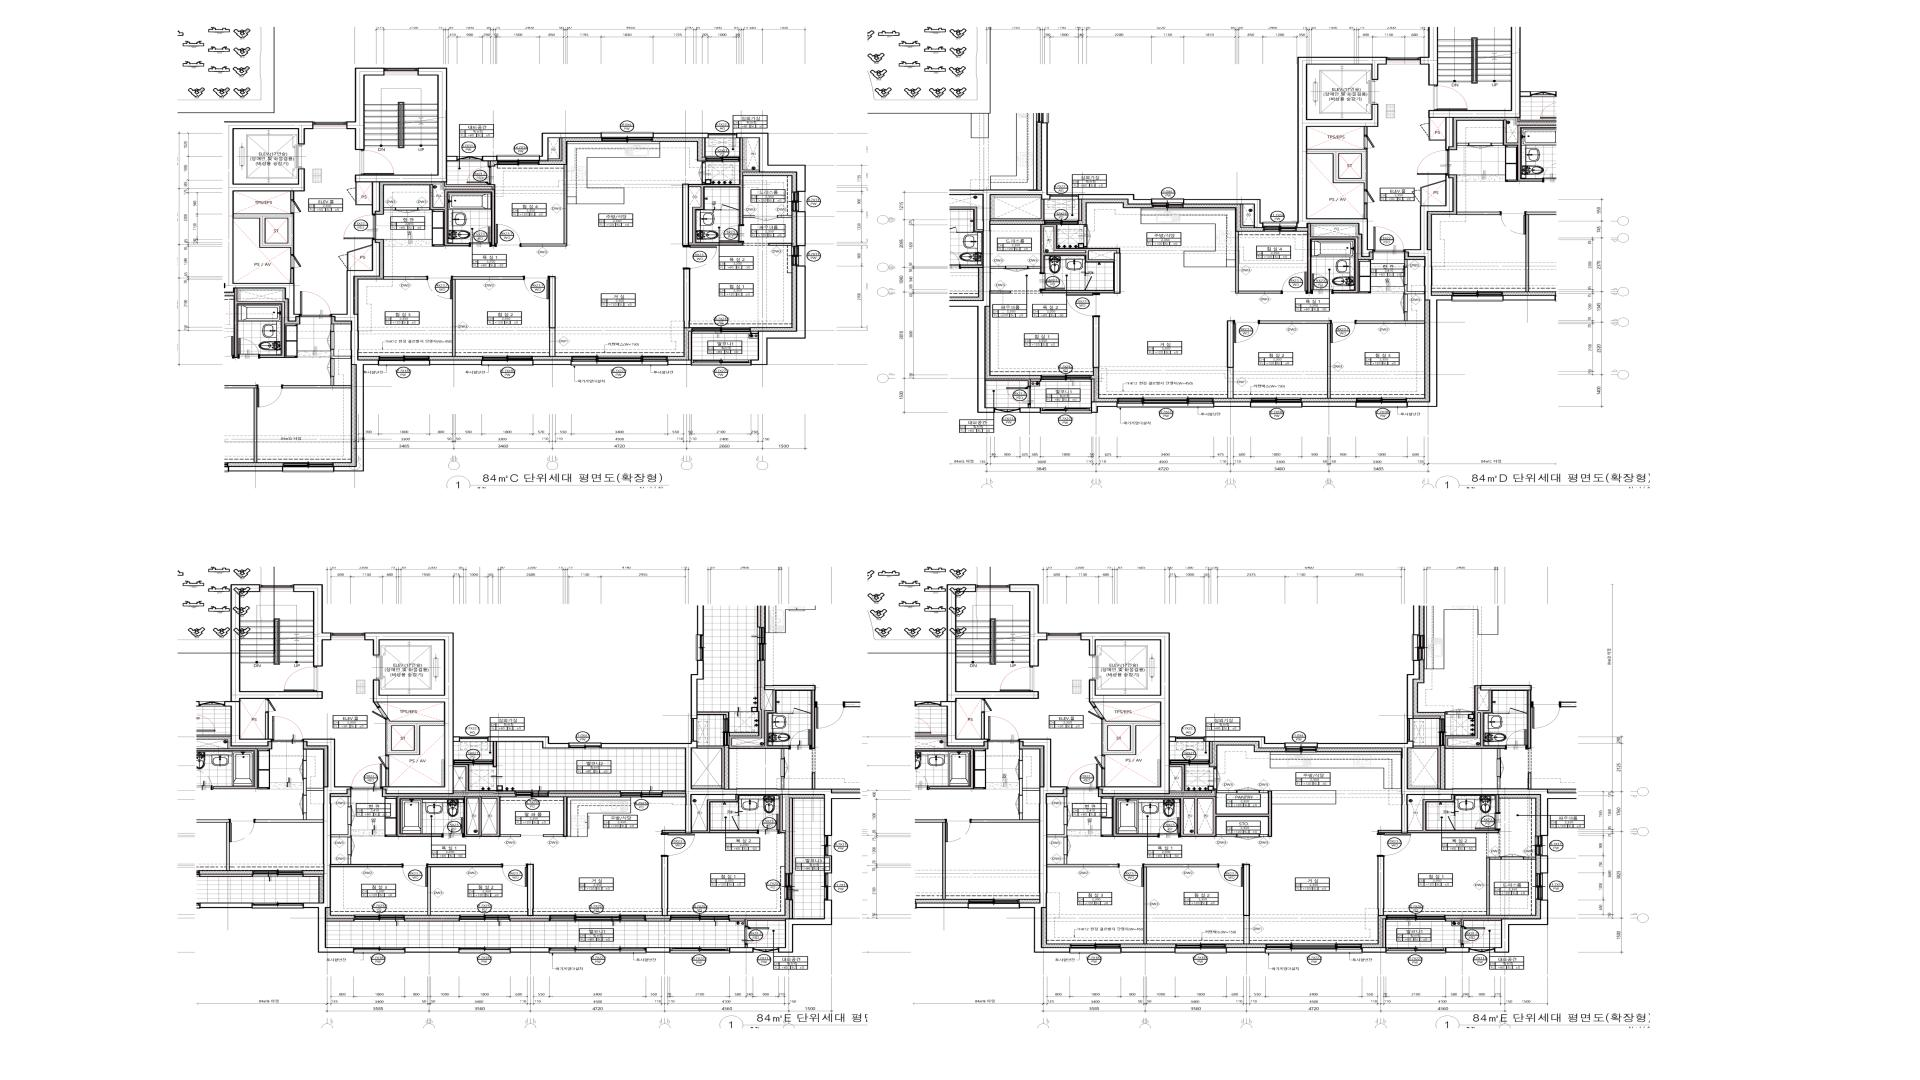door: (359, 149, 394, 175), (999, 667, 1034, 691), (283, 667, 318, 691), (1377, 833, 1411, 857), (661, 833, 695, 857), (1434, 86, 1468, 110), (351, 764, 382, 790), (1373, 227, 1404, 253), (683, 246, 717, 269), (1068, 764, 1098, 790), (344, 215, 376, 239), (1067, 294, 1100, 317), (1233, 320, 1260, 343), (402, 863, 427, 887), (495, 224, 521, 247), (1331, 320, 1357, 343), (1218, 864, 1243, 887), (1119, 864, 1144, 887), (502, 864, 527, 887), (524, 276, 549, 299), (427, 276, 452, 299), (1281, 272, 1307, 294), (1039, 273, 1066, 291), (719, 224, 744, 243), (1461, 926, 1486, 945), (744, 926, 769, 945), (442, 817, 464, 838), (469, 226, 491, 247), (1311, 273, 1333, 294), (1158, 817, 1181, 837), (1006, 387, 1031, 405), (1475, 813, 1501, 830), (466, 167, 491, 184), (758, 814, 779, 834), (1086, 707, 1105, 721), (369, 707, 388, 721), (1213, 767, 1221, 790), (698, 161, 706, 184), (1093, 755, 1105, 769), (1084, 225, 1091, 248), (1364, 135, 1375, 149), (1364, 190, 1375, 204), (981, 699, 992, 712), (378, 755, 389, 768), (290, 200, 301, 213), (265, 699, 275, 713), (1237, 834, 1260, 840), (1237, 787, 1260, 793), (395, 207, 418, 213), (755, 215, 777, 221), (1502, 854, 1524, 860), (1006, 266, 1028, 272), (1448, 815, 1456, 830), (720, 204, 739, 210), (732, 814, 739, 830), (1085, 275, 1092, 290)
wall: (600, 741, 832, 836), (1316, 743, 1548, 836), (224, 122, 313, 322), (1298, 57, 1387, 257), (977, 190, 1051, 413), (1080, 632, 1176, 794), (365, 632, 460, 794), (946, 584, 1039, 747), (230, 584, 323, 747), (354, 68, 457, 215), (1428, 3, 1521, 150), (1404, 175, 1454, 407), (1019, 739, 1070, 953), (303, 739, 354, 953), (689, 138, 759, 246), (1113, 791, 1272, 837), (331, 239, 380, 365), (1144, 864, 1217, 945), (452, 277, 523, 356), (1260, 321, 1331, 398), (751, 266, 806, 365), (397, 796, 500, 837), (736, 133, 806, 192), (430, 185, 495, 246), (521, 165, 567, 247), (1040, 225, 1120, 272), (428, 864, 501, 915), (1307, 224, 1358, 294), (1408, 795, 1498, 833), (293, 584, 331, 667), (1420, 3, 1458, 86), (346, 68, 384, 150), (1009, 584, 1047, 666), (1494, 900, 1548, 953), (778, 900, 832, 953), (1235, 232, 1281, 294), (234, 213, 294, 255), (692, 795, 758, 833), (1308, 149, 1368, 190), (1183, 199, 1264, 228), (1101, 719, 1160, 755), (385, 719, 444, 755), (454, 765, 515, 794), (539, 133, 602, 161), (1170, 764, 1212, 794), (991, 200, 1045, 221), (1042, 227, 1085, 253), (487, 736, 569, 749), (1486, 857, 1502, 915), (1047, 855, 1118, 868), (1204, 737, 1285, 748), (331, 855, 402, 867), (1356, 312, 1425, 324), (1078, 194, 1153, 205), (1242, 864, 1250, 944), (1421, 180, 1446, 205), (265, 219, 288, 243), (1227, 321, 1234, 398), (1339, 154, 1361, 178), (1198, 799, 1213, 834), (549, 277, 555, 357), (661, 857, 668, 916), (1092, 317, 1100, 368), (444, 182, 494, 190), (1429, 118, 1445, 141), (527, 864, 534, 916), (684, 269, 690, 328), (1378, 857, 1384, 916), (796, 212, 806, 246), (404, 947, 459, 953), (1240, 205, 1254, 228), (986, 379, 1031, 386), (789, 798, 793, 873), (549, 138, 562, 161), (1040, 290, 1114, 294), (1114, 253, 1121, 294), (1091, 402, 1117, 413), (653, 133, 709, 138), (1461, 919, 1501, 926), (745, 919, 785, 926), (1301, 402, 1357, 407), (1120, 948, 1175, 953), (429, 360, 482, 365), (509, 947, 550, 953), (1226, 947, 1266, 953), (331, 825, 351, 837), (1047, 825, 1067, 837), (548, 790, 621, 793), (532, 360, 572, 365), (563, 797, 568, 837), (780, 795, 785, 833), (1213, 402, 1251, 407), (1404, 285, 1424, 294), (384, 276, 427, 280), (404, 919, 460, 922), (645, 947, 671, 953), (1445, 947, 1470, 953), (1362, 947, 1387, 953), (729, 947, 754, 953), (1540, 856, 1548, 873), (824, 856, 832, 873), (1019, 407, 1041, 413), (509, 919, 550, 922), (668, 360, 692, 365), (689, 331, 693, 360), (981, 712, 985, 739), (265, 712, 269, 739), (493, 742, 497, 767), (1209, 742, 1213, 764), (1078, 199, 1082, 221), (1091, 379, 1095, 401), (1383, 919, 1386, 948), (326, 919, 354, 922), (645, 919, 671, 922), (702, 138, 706, 157), (789, 900, 793, 919), (482, 156, 497, 161), (768, 243, 792, 246), (1378, 830, 1402, 833), (385, 768, 389, 786), (662, 830, 685, 833), (662, 791, 685, 794), (1101, 769, 1105, 786), (500, 834, 521, 837), (1216, 790, 1237, 793), (290, 268, 294, 283), (1217, 834, 1237, 837), (543, 834, 563, 837), (1364, 204, 1368, 219), (991, 291, 1011, 294), (1496, 795, 1499, 812), (374, 702, 381, 709), (1445, 919, 1461, 922), (729, 919, 745, 922), (777, 215, 792, 218), (991, 266, 1006, 269), (290, 191, 294, 200), (743, 215, 755, 218), (1524, 857, 1536, 860), (1404, 259, 1408, 268), (1028, 266, 1040, 269), (418, 207, 429, 210), (1364, 127, 1368, 135), (348, 797, 351, 807), (1064, 797, 1067, 807), (1031, 379, 1041, 382), (1090, 703, 1097, 707), (383, 208, 395, 210), (385, 835, 397, 837), (385, 797, 397, 799), (1260, 790, 1268, 793), (1260, 834, 1268, 837), (1101, 835, 1112, 837), (751, 331, 758, 334), (488, 161, 491, 167), (1101, 797, 1113, 798), (1461, 945, 1464, 947), (745, 945, 748, 947), (1028, 405, 1031, 407)
window: (572, 356, 668, 366), (1117, 398, 1213, 408), (1266, 944, 1362, 953), (550, 948, 646, 954), (550, 915, 645, 921), (601, 132, 653, 142), (1070, 944, 1121, 954), (378, 356, 429, 366), (482, 356, 533, 366), (1251, 398, 1302, 408), (1357, 398, 1407, 408), (1175, 944, 1226, 953), (691, 359, 751, 366), (497, 155, 539, 165), (1387, 947, 1445, 954), (1386, 915, 1445, 921), (670, 915, 729, 921), (354, 947, 404, 954), (1041, 375, 1091, 382), (671, 947, 729, 953), (692, 328, 750, 334), (460, 915, 509, 922), (1263, 222, 1297, 232), (621, 790, 662, 798), (1536, 874, 1548, 900), (1285, 742, 1316, 752), (1152, 198, 1183, 208), (460, 947, 510, 953), (354, 915, 404, 921), (1041, 408, 1091, 414), (791, 246, 805, 266), (1535, 836, 1548, 856), (792, 192, 805, 211), (976, 585, 1009, 592), (331, 633, 364, 640), (260, 585, 293, 592), (384, 68, 417, 75), (313, 122, 346, 129), (1458, 3, 1491, 10), (1387, 57, 1420, 64), (1048, 633, 1080, 640), (516, 790, 548, 797), (824, 874, 832, 900), (785, 874, 793, 900), (454, 760, 493, 765), (1170, 759, 1209, 764), (570, 742, 600, 748), (706, 157, 739, 162), (1045, 220, 1078, 225), (1051, 194, 1078, 200), (1176, 737, 1204, 742), (460, 737, 487, 742), (709, 133, 736, 138), (824, 837, 831, 856), (1470, 948, 1494, 953), (754, 948, 778, 953), (458, 156, 482, 161), (995, 408, 1019, 413)
